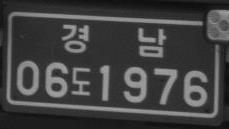0: (14, 58, 40, 98)
1: (94, 63, 115, 101)
6: (182, 69, 209, 108), (44, 60, 69, 100)
7: (152, 66, 179, 105)
9: (121, 65, 148, 104)
경남_D: (60, 23, 166, 59)
도: (70, 65, 91, 97)
